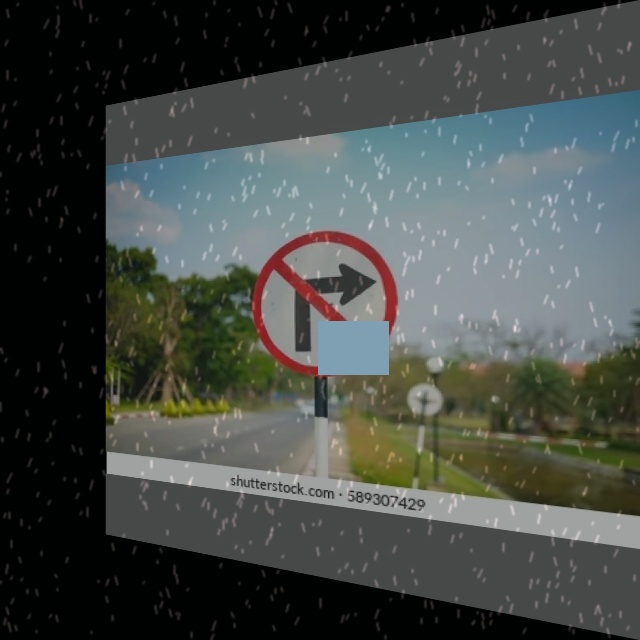Right_Turn_Prohibited: (252, 226, 400, 382)
